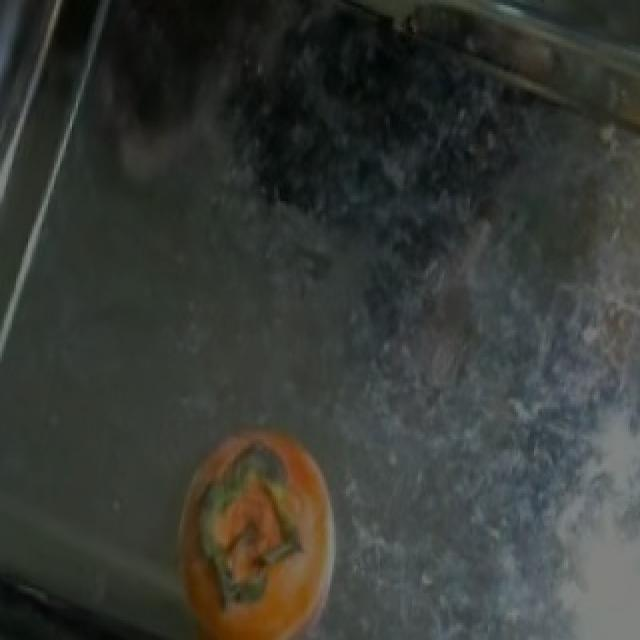Fruit: (152, 402, 364, 640)
